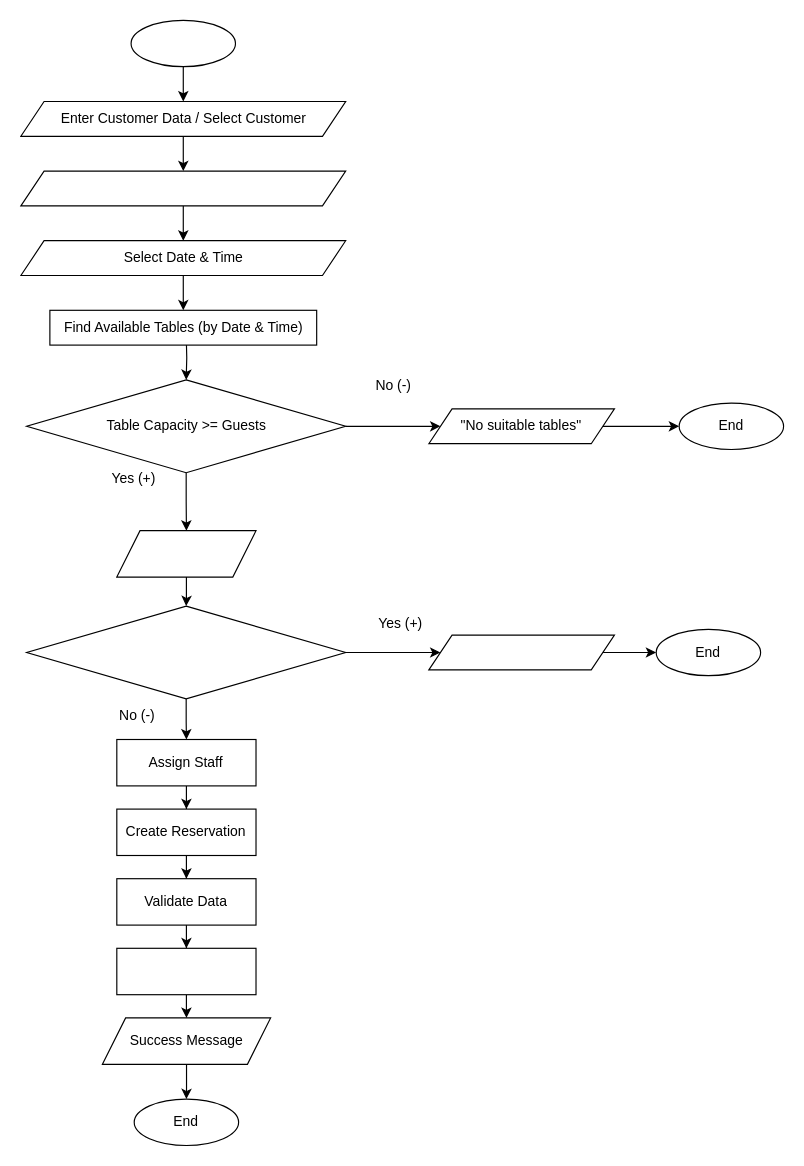
Some shapes in this 804 by 1166 pixel diagram are drawn without their labels. The centre of each missing label's shape, as x and y in pixels:
"Time conflict": point 521,652
Enter Guest Count: point 183,188
Save to Database: point 186,971
Select Table: point 186,553
Start: point 182,43
Time Conflict ?: point 186,652
